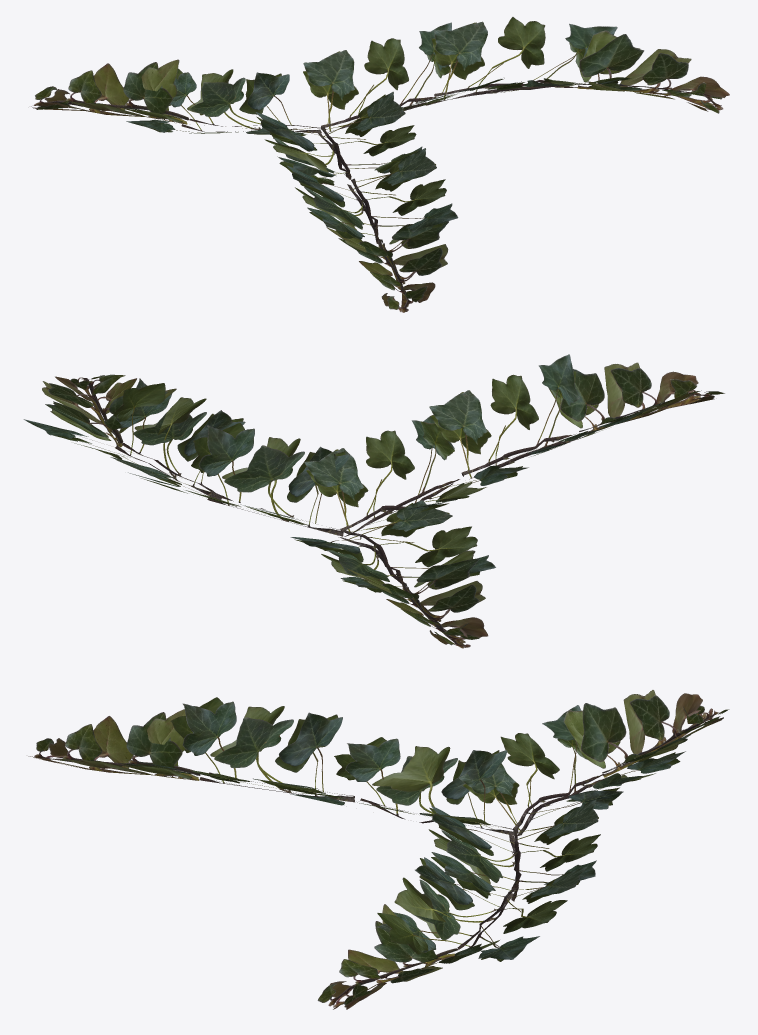
Rendered from stumbletwine_07.fbx.
3 views of the same model, one above another, from view 1: azimuth 30°, elevation 25°; view 2: azimuth 150°, elevation 25°; view 3: azimuth 270°, elevation 25° (orthographic). The views are drawn at different scales.
Visible parts, largest first — view 1: stumbletwine_07; view 2: stumbletwine_07; view 3: stumbletwine_07.
Boxes of the visible parts, <box> form: stumbletwine_07: <box>31,17,729,312</box>; stumbletwine_07: <box>23,354,724,648</box>; stumbletwine_07: <box>28,690,729,1009</box>.
Size of the model in its own units: 82.13 by 84.07 by 7.49.
